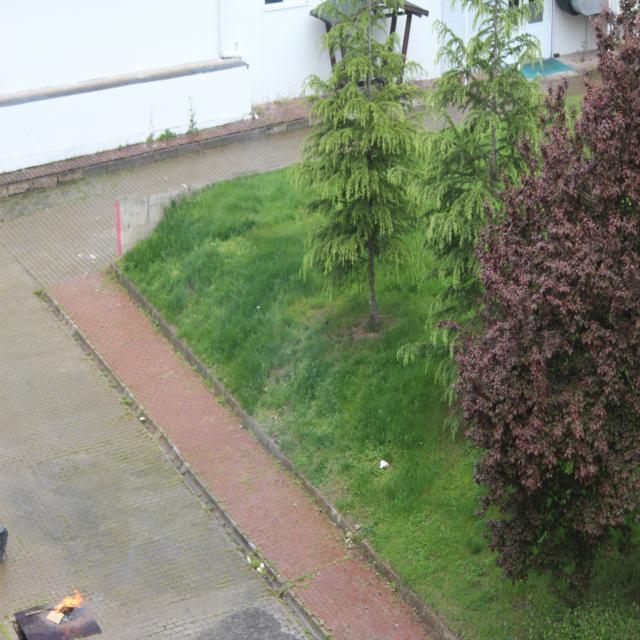fire: (36, 572, 87, 626)
